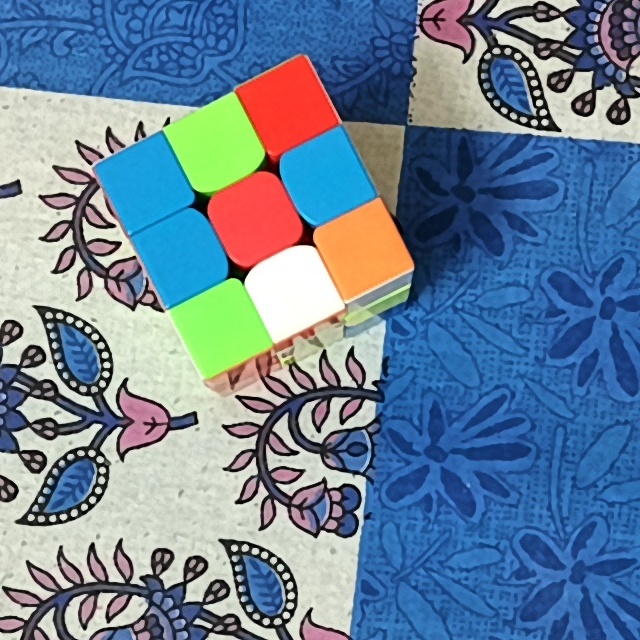tile: (264, 262, 320, 317), (335, 220, 389, 277), (230, 192, 286, 245), (158, 226, 209, 283), (296, 156, 355, 205), (199, 301, 249, 355), (261, 84, 317, 131), (116, 162, 172, 208), (192, 124, 243, 174)
